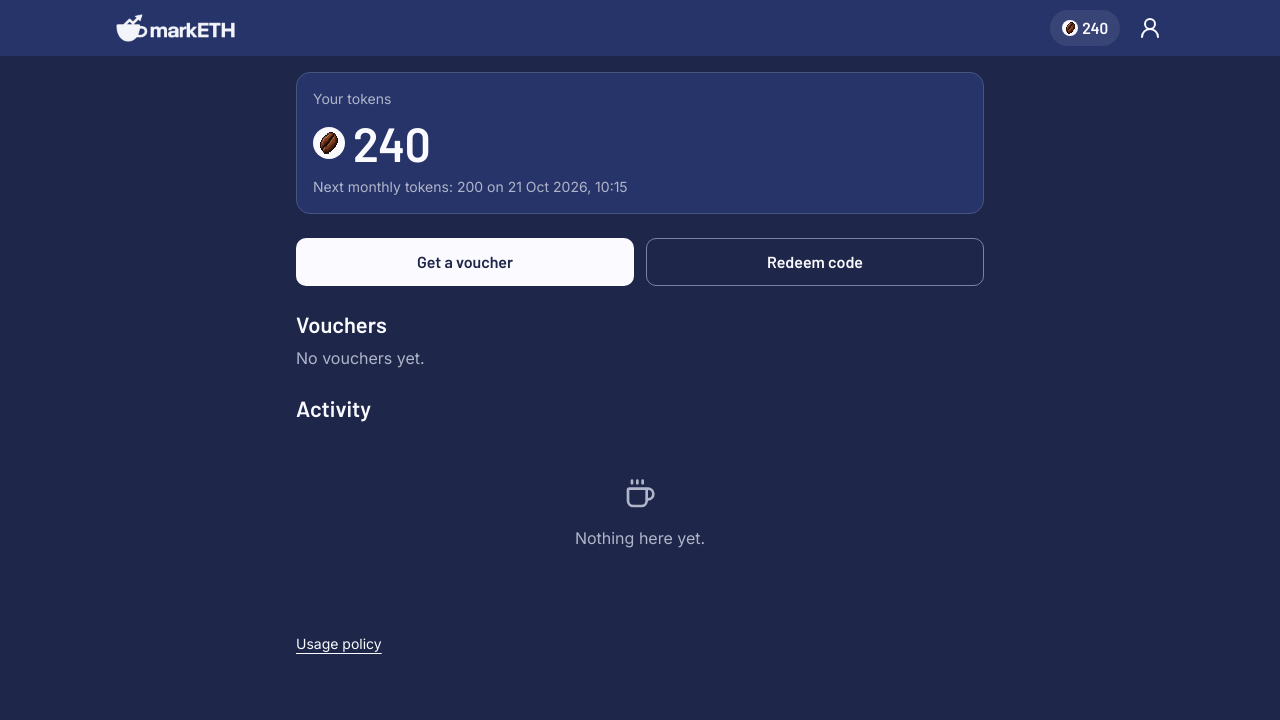
Scenario: the product list › lists the products of the API in its order, each with what it takes
Check: the text "No vouchers yet." is shown, box [296,348,425,368]
Click the button "Get a voucher": click(465, 262) [296,238,634,286]
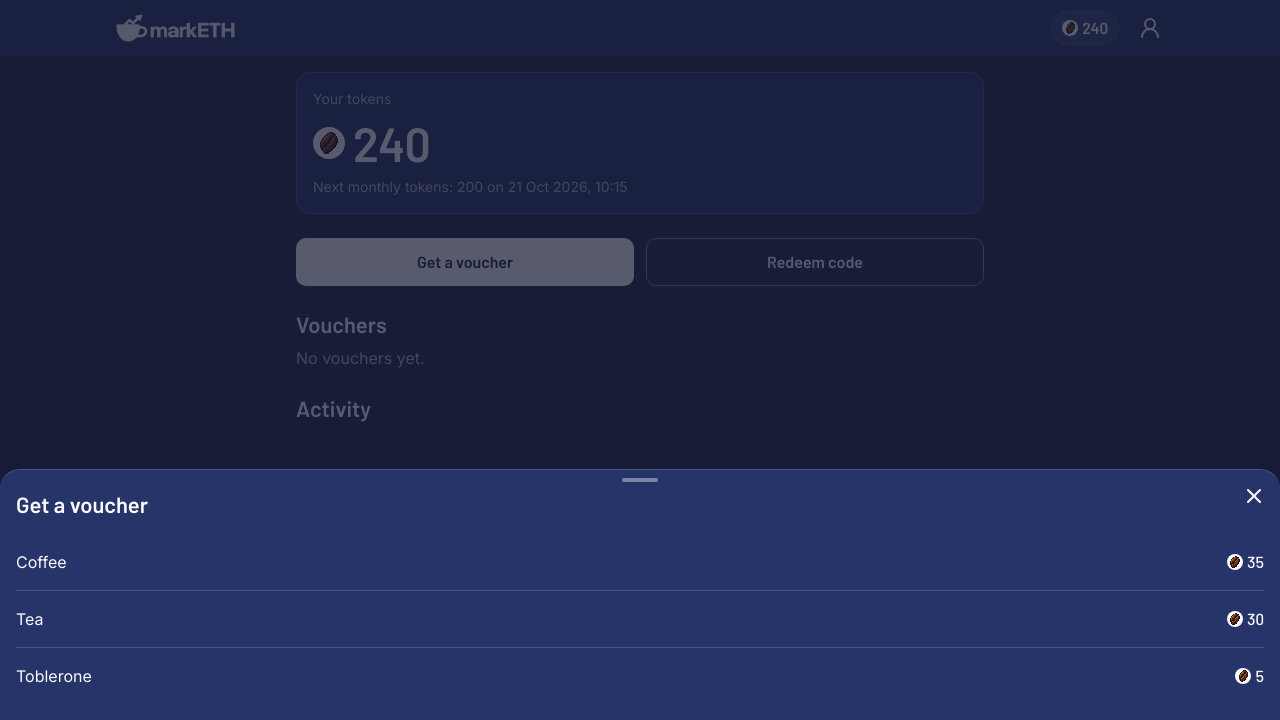
Check: the list items read "Coffee3535 tokens", "Tea3030 tokens", "Toblerone55 tokens", in this order, box [16,534,1264,591]; [16,591,1264,648]; [16,648,1264,704]
